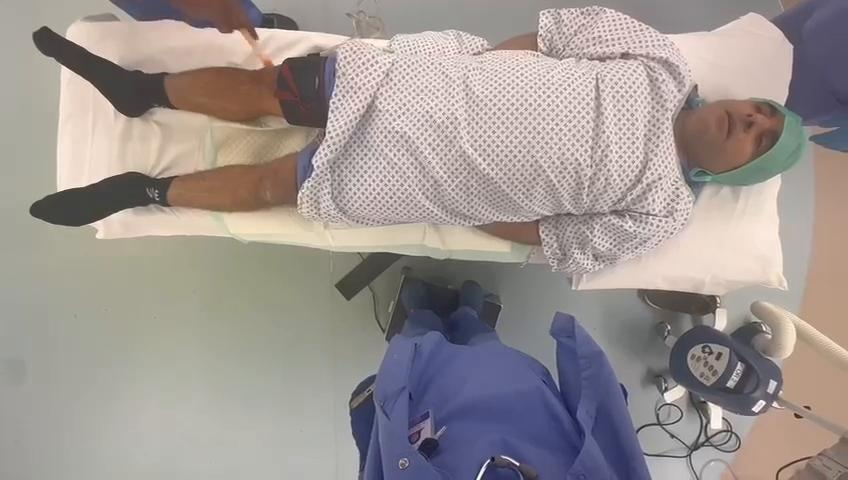bed: (36, 8, 805, 294)
patient: (31, 8, 805, 271)
prepstick: (238, 28, 275, 67)
tourniquet: (275, 53, 330, 127)
